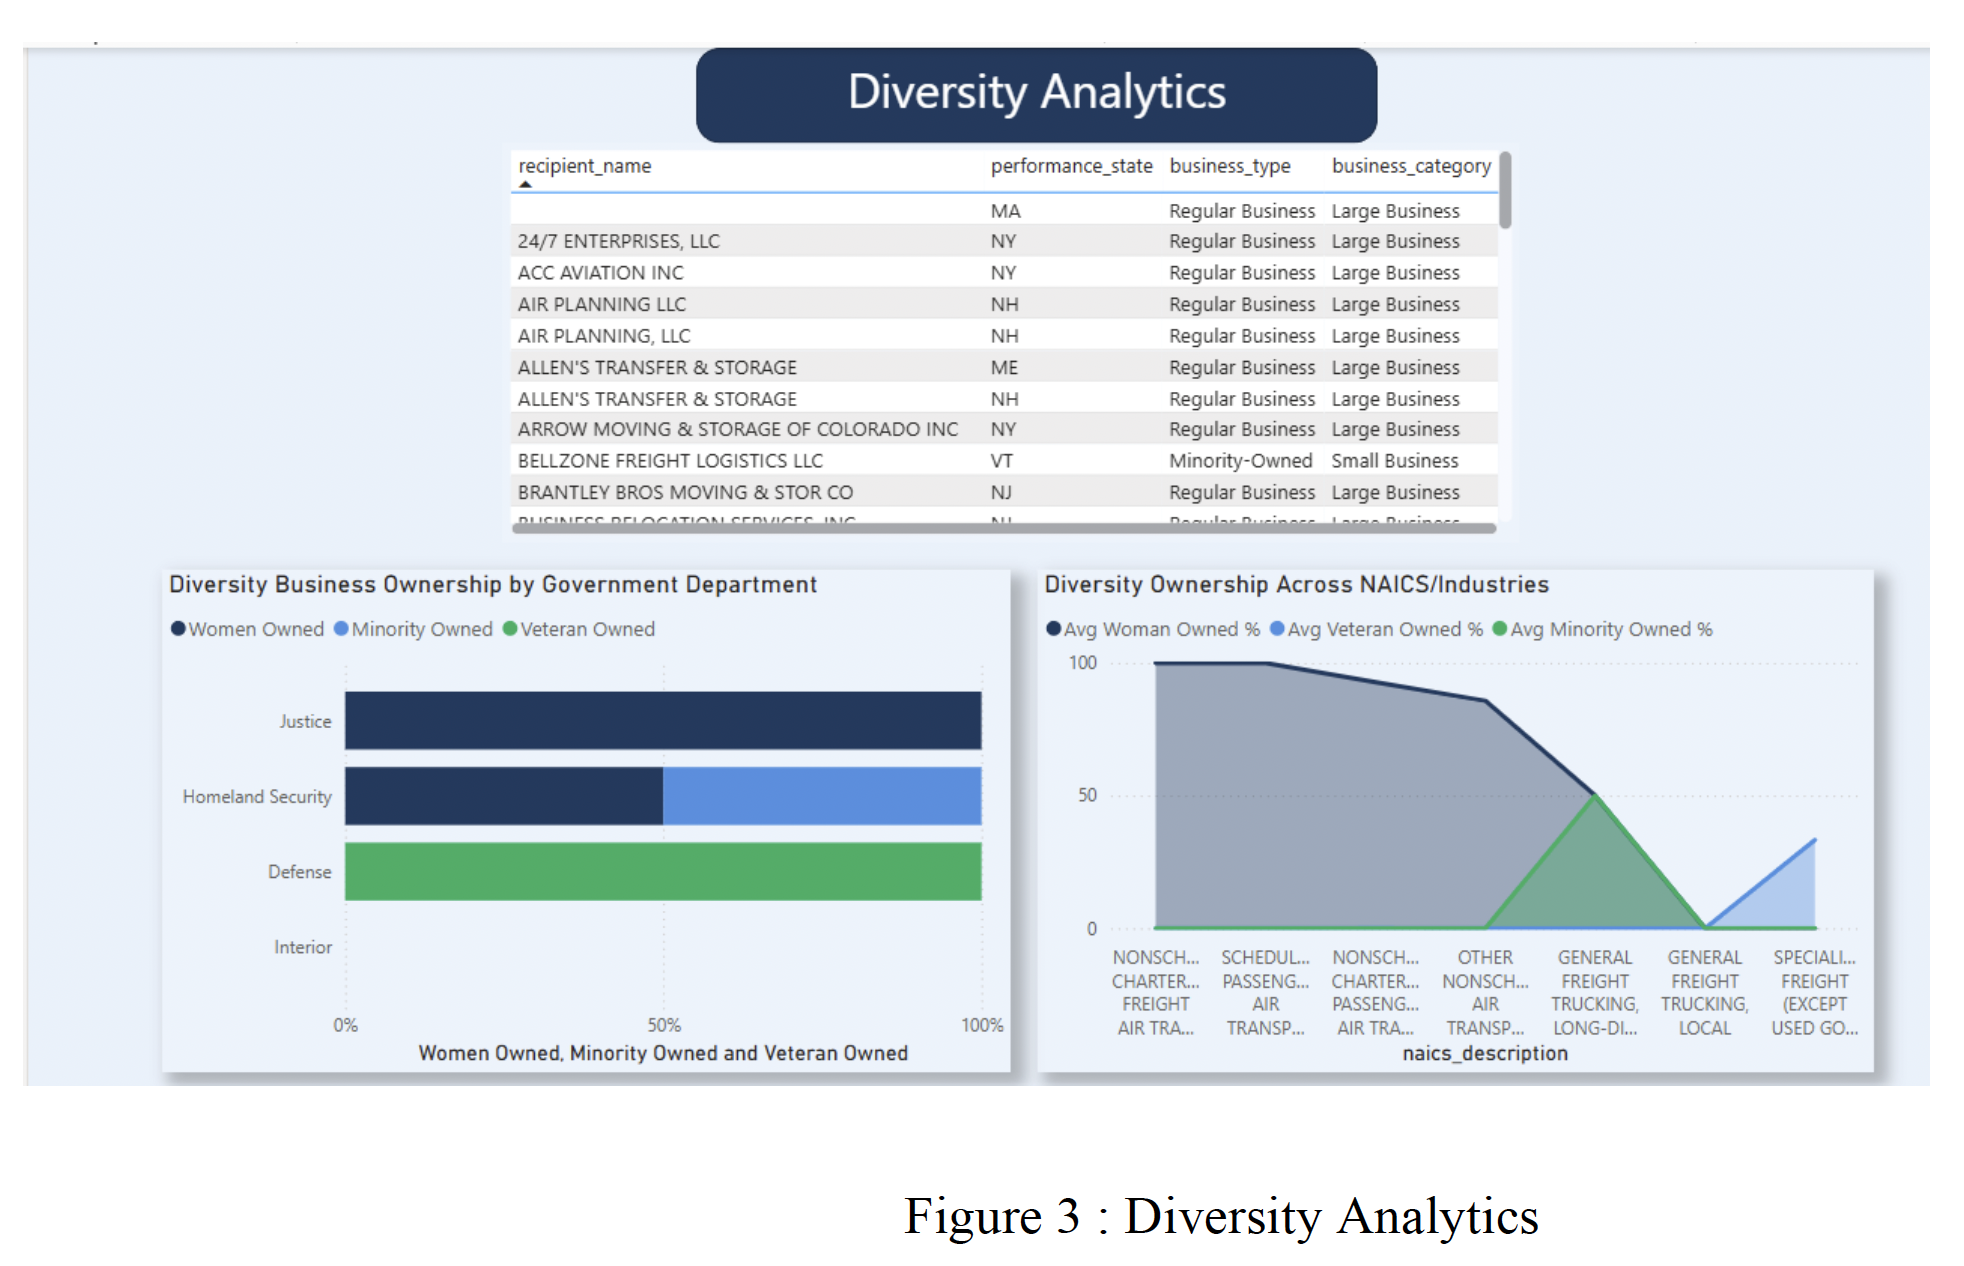

This screenshot's page, from the dashboard's own definition file:
{"tool":"powerbi","page":{"name":"Diversity Analytics","canvas":[1280,720],"ordinal":2},"visuals":[{"type":"hundredPercentStackedBarChart","title":"Diversity Business Ownership by Government Department","fields":{"Y":["Sum(diversity_analysis_summary.woman_owned_contracts)","Sum(diversity_analysis_summary.minority_owned_contracts)","Sum(diversity_analysis_summary.veteran_owned_contracts)"],"Category":["DIM_Agency.Agency Short Name"]},"box":[90,350,570,337.1],"z":0},{"type":"areaChart","title":"Diversity Ownership Across NAICS/Industries","fields":{"Category":["budget_analysis_summary.naics_description"],"Y":["diversity_analysis_summary.Avg Woman Owned %","diversity_analysis_summary.Avg Veteran Owned %","diversity_analysis_summary.Avg Minority Owned %"]},"box":[677.1,350,561.4,337.1],"z":1000},{"type":"tableEx","fields":{"Values":["export_contracts_analysis.recipient_name","export_contracts_analysis.performance_state","export_contracts_analysis.business_type","export_contracts_analysis.business_category"]},"box":[318.6,64.3,682.9,268.6],"z":1001},{"type":"shape","box":[448.6,0,457.1,64.3],"z":1002},{"type":"textbox","box":[525.7,0,302.9,64.3],"z":1003}]}

Visuals, with their boxes on the page's 1280x720 design canvas (x1, y1, x2, y2). These are canvas units, not pixel positions in the 1964x1266 screenshot, which may show the page scaled, cropped or inside an application window:
"Diversity Business Ownership by Government Department" hundredPercentStackedBarChart: (90, 350, 660, 687)
"Diversity Ownership Across NAICS/Industries" areaChart: (677, 350, 1238, 687)
tableEx - export_contracts_analysis.recipient_name x export_contracts_analysis.performance_state: (319, 64, 1002, 333)
shape: (449, 0, 906, 64)
textbox: (526, 0, 829, 64)
